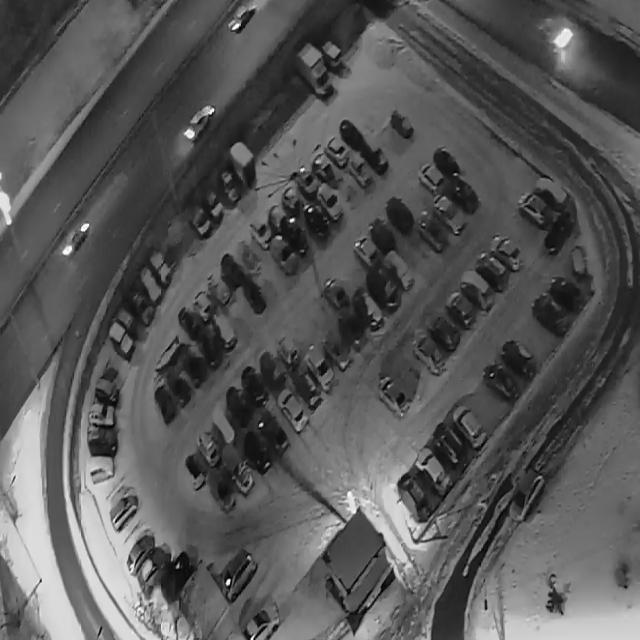car: (508, 464, 548, 531), (221, 544, 258, 610), (293, 42, 334, 101), (530, 288, 570, 342), (481, 354, 520, 408), (221, 442, 255, 497), (374, 372, 412, 421), (542, 205, 574, 263), (408, 331, 448, 377), (415, 444, 449, 498), (397, 470, 430, 525), (159, 551, 193, 604), (366, 265, 401, 316), (137, 542, 170, 596), (451, 402, 487, 451), (241, 597, 282, 640), (424, 310, 462, 354), (502, 335, 536, 384), (516, 188, 553, 233), (459, 267, 495, 313), (257, 410, 290, 460), (352, 287, 386, 334), (226, 140, 257, 190), (475, 251, 510, 295), (432, 194, 467, 238), (434, 422, 466, 470), (242, 429, 274, 477), (489, 232, 525, 274), (306, 344, 336, 394), (552, 274, 585, 319), (126, 529, 156, 578), (184, 103, 218, 146), (382, 250, 416, 293), (278, 387, 308, 435), (239, 362, 269, 410), (293, 365, 323, 412), (384, 194, 415, 239), (62, 216, 92, 262), (418, 209, 448, 255), (338, 305, 367, 352), (360, 130, 389, 177), (534, 173, 568, 213), (109, 491, 139, 536), (324, 326, 352, 374), (445, 288, 476, 331), (125, 284, 155, 328), (268, 233, 298, 277), (449, 172, 480, 214), (209, 469, 237, 515), (431, 144, 462, 185), (108, 319, 136, 364), (225, 382, 252, 428), (369, 216, 397, 260), (259, 350, 287, 394), (183, 200, 212, 242), (316, 182, 344, 224), (196, 326, 222, 371), (181, 449, 207, 493), (320, 277, 350, 315), (87, 425, 119, 460), (338, 118, 366, 158), (346, 148, 374, 188), (198, 186, 225, 227), (184, 343, 208, 389), (148, 247, 173, 291), (212, 308, 237, 352), (137, 264, 163, 306), (196, 428, 222, 470), (304, 199, 330, 241), (214, 167, 241, 207), (282, 217, 308, 258), (153, 381, 176, 427), (317, 34, 342, 76), (310, 145, 335, 187), (167, 366, 192, 408), (275, 332, 301, 372), (294, 164, 320, 204), (353, 232, 380, 270), (265, 198, 290, 239), (249, 214, 275, 253), (228, 1, 256, 36), (418, 162, 445, 198), (323, 134, 350, 170), (176, 304, 201, 342), (390, 106, 415, 143), (88, 400, 118, 430), (206, 270, 230, 307), (280, 184, 303, 222), (88, 455, 116, 486), (94, 377, 122, 408), (193, 288, 214, 326)
